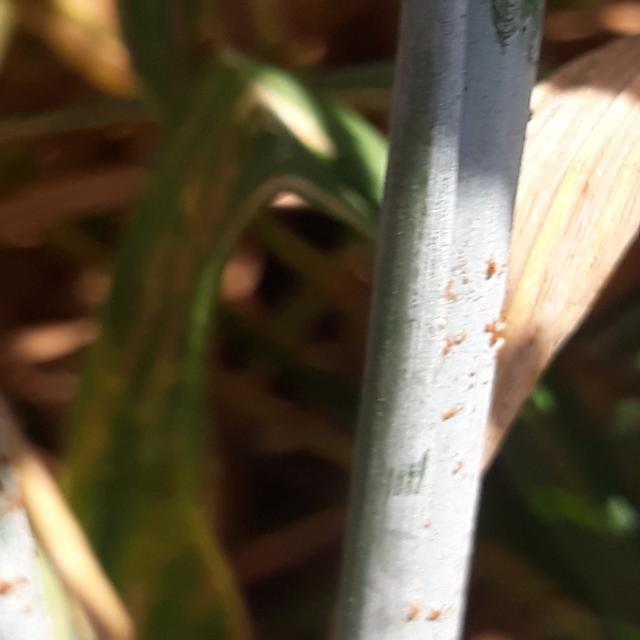black_stem_rust: (12, 0, 616, 640)
